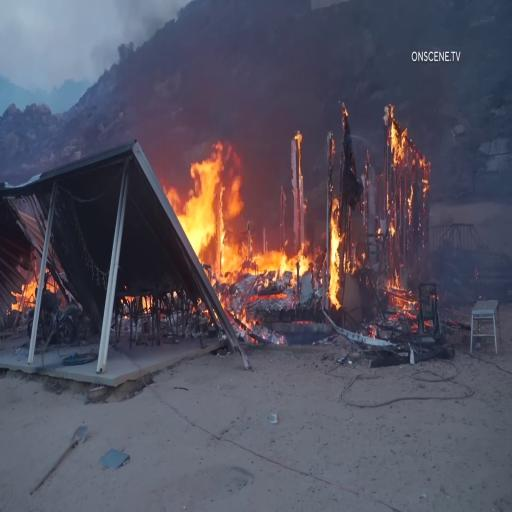fire: (174, 135, 238, 284), (240, 232, 317, 282)
